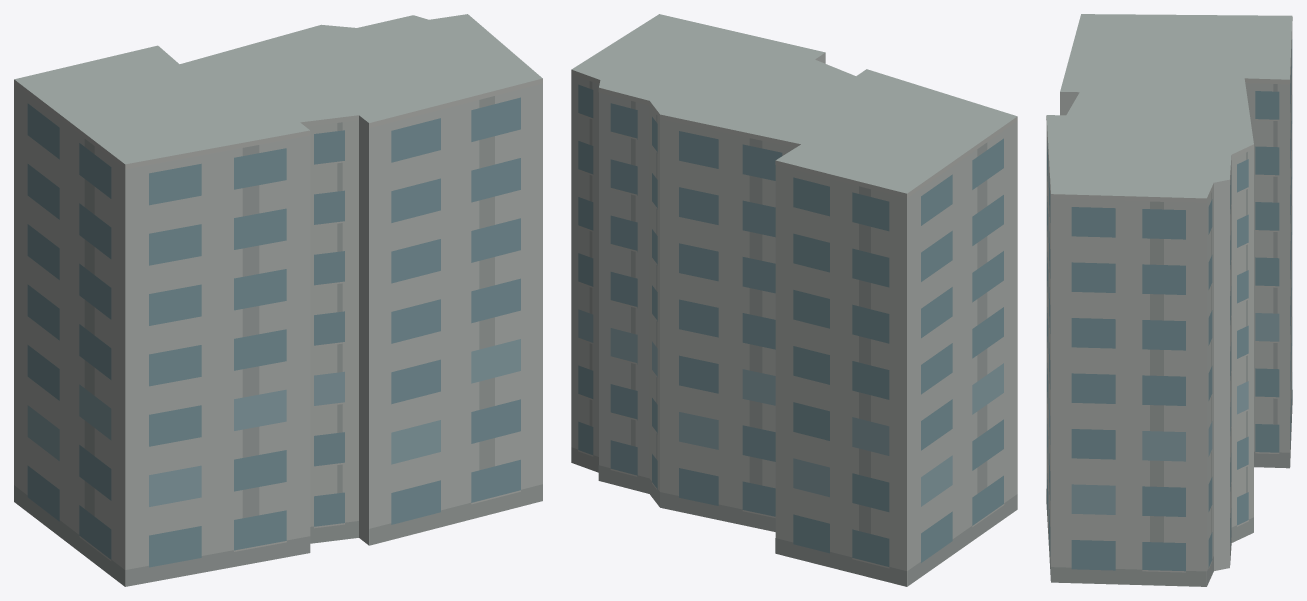
The model's file is survey-upis-32877732.glb.
3 views of the same model, side by side, from view 1: azimuth 30°, elevation 25°; view 2: azimuth 150°, elevation 25°; view 3: azimuth 270°, elevation 25° (orthographic). The views are drawn at different scales.
Visible parts, largest first — view 1: survey-upis-32877732.tmp; view 2: survey-upis-32877732.tmp; view 3: survey-upis-32877732.tmp.
Boxes of the visible parts, x1,y1,x2,y2 form: survey-upis-32877732.tmp: (14,14,542,586); survey-upis-32877732.tmp: (571,14,1017,586); survey-upis-32877732.tmp: (1046,14,1292,586).
Bounding box in the file's own units: 20.63 × 20.25 × 11.63.
